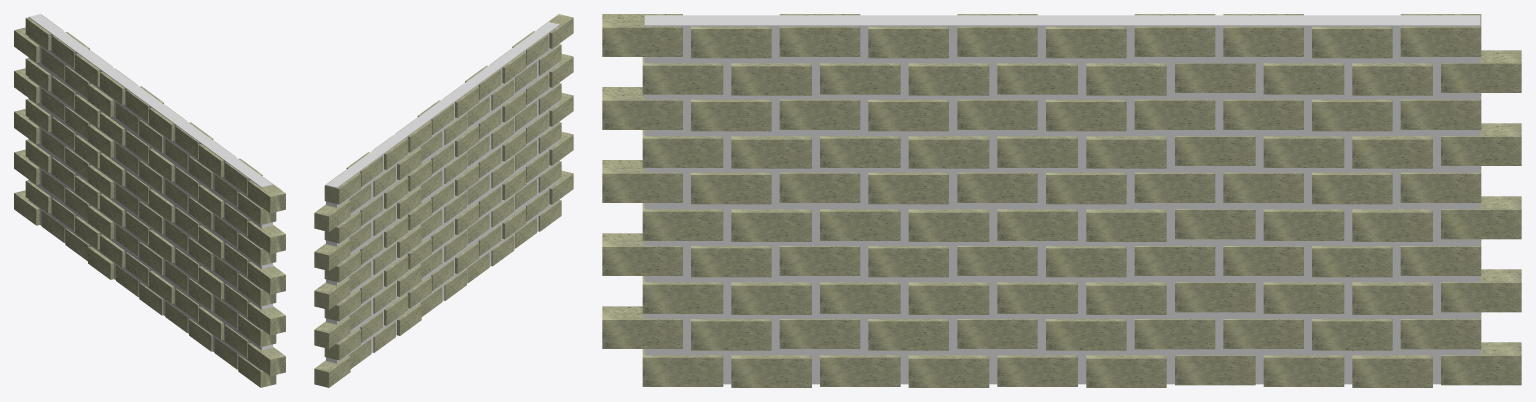
File: BrickWallWithLargeBricksEndings.glb
3 renders of one model, left to right at view 1: azimuth 30°, elevation 25°; view 2: azimuth 150°, elevation 25°; view 3: azimuth 270°, elevation 25°, orthographic. The views are drawn at different scales.
Parts seen in each view (by area): view 1: BrickWallWithLargeBricksEndings; view 2: BrickWallWithLargeBricksEndings; view 3: BrickWallWithLargeBricksEndings.
Boxes of the visible parts, bbox=[...] form: BrickWallWithLargeBricksEndings: bbox=[14, 14, 285, 387]; BrickWallWithLargeBricksEndings: bbox=[314, 14, 573, 387]; BrickWallWithLargeBricksEndings: bbox=[602, 14, 1521, 387].
Size of the model in its own units: 0.4784 by 4.92 by 11.4.
Materials: 2 (1 with a texture image).
